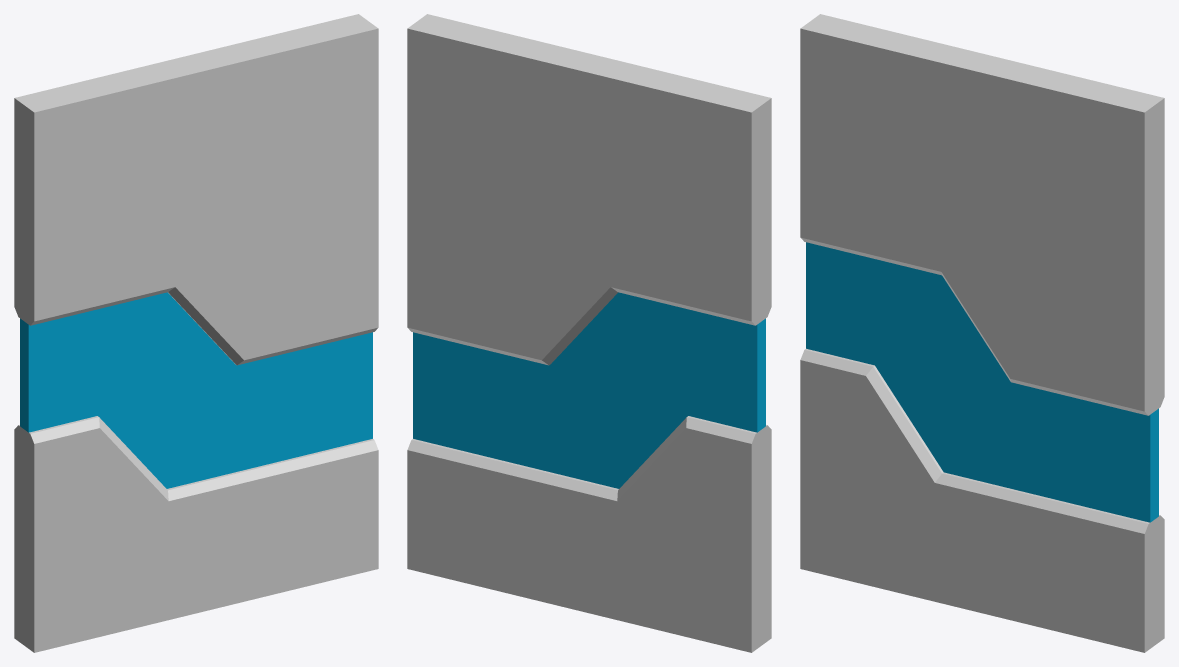
File: K2_wall_122.fbx
The picture shows the model from 3 angles, left to right: view 1: azimuth 30°, elevation 25°; view 2: azimuth 150°, elevation 25°; view 3: azimuth 330°, elevation 25°; orthographic projection.
Parts seen in each view (by area): view 1: polySurface68; view 2: polySurface68; view 3: polySurface68.
Part boxes in pixels (x1,y1,x2,y2): polySurface68: (14,14,378,652); polySurface68: (407,14,771,652); polySurface68: (800,14,1164,652).
Bounding box in the file's own units: 20 × 30 × 2.
